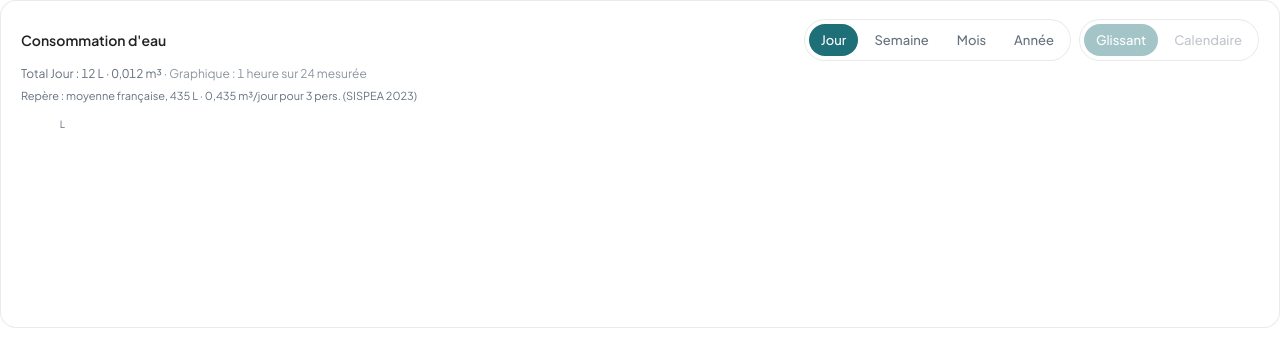
Scenario: WaterConsumptionChart — consumption history › a single point is enough to leave the empty state — but ONLY for the period whose series has a point
Step 1. Click the tab with class "segmented__item" showing "Semaine" → (902, 40), box [862,24,941,56]
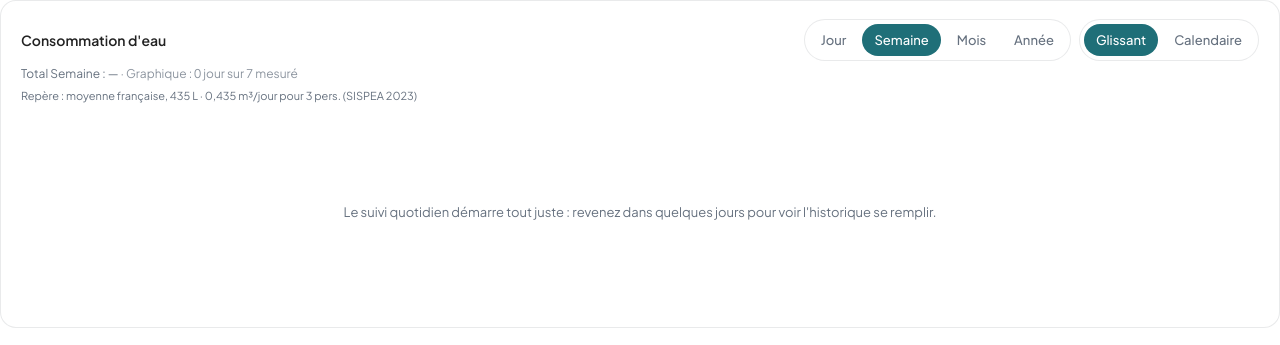
Expected: the text with class "chart__empty" shows "quotidien", [344,204,936,220]
Step 2. Click the tab with class "segmented__item" showing "Année" → (1034, 40), box [1002,24,1066,56]
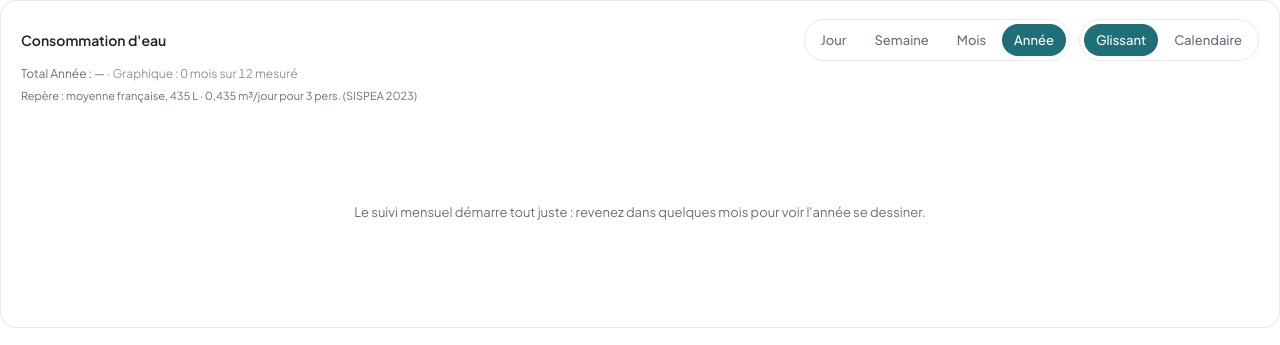
Expected: the text with class "chart__empty" shows "mensuel", [354,204,926,220]
